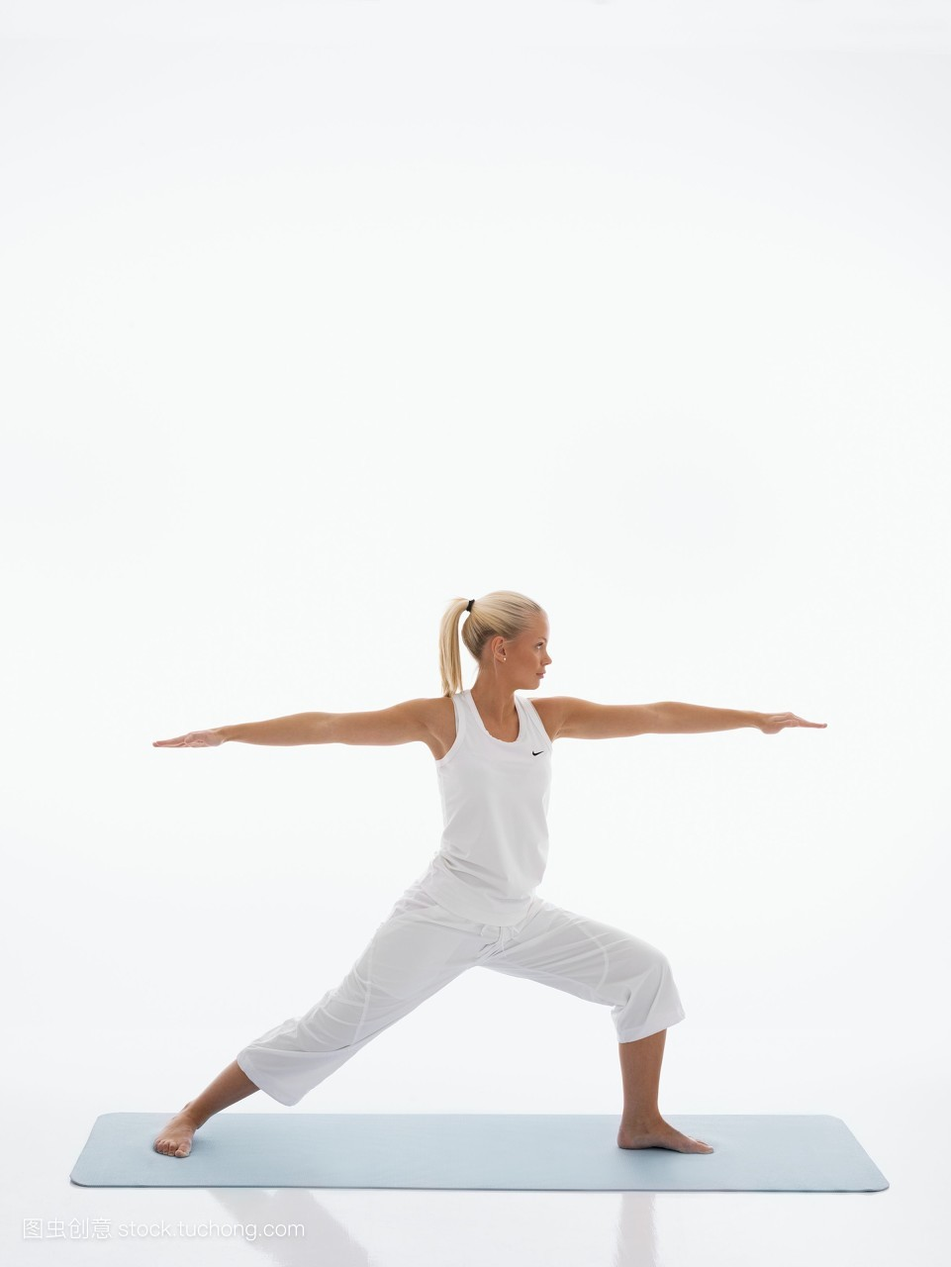other: (125, 576, 864, 1180)
